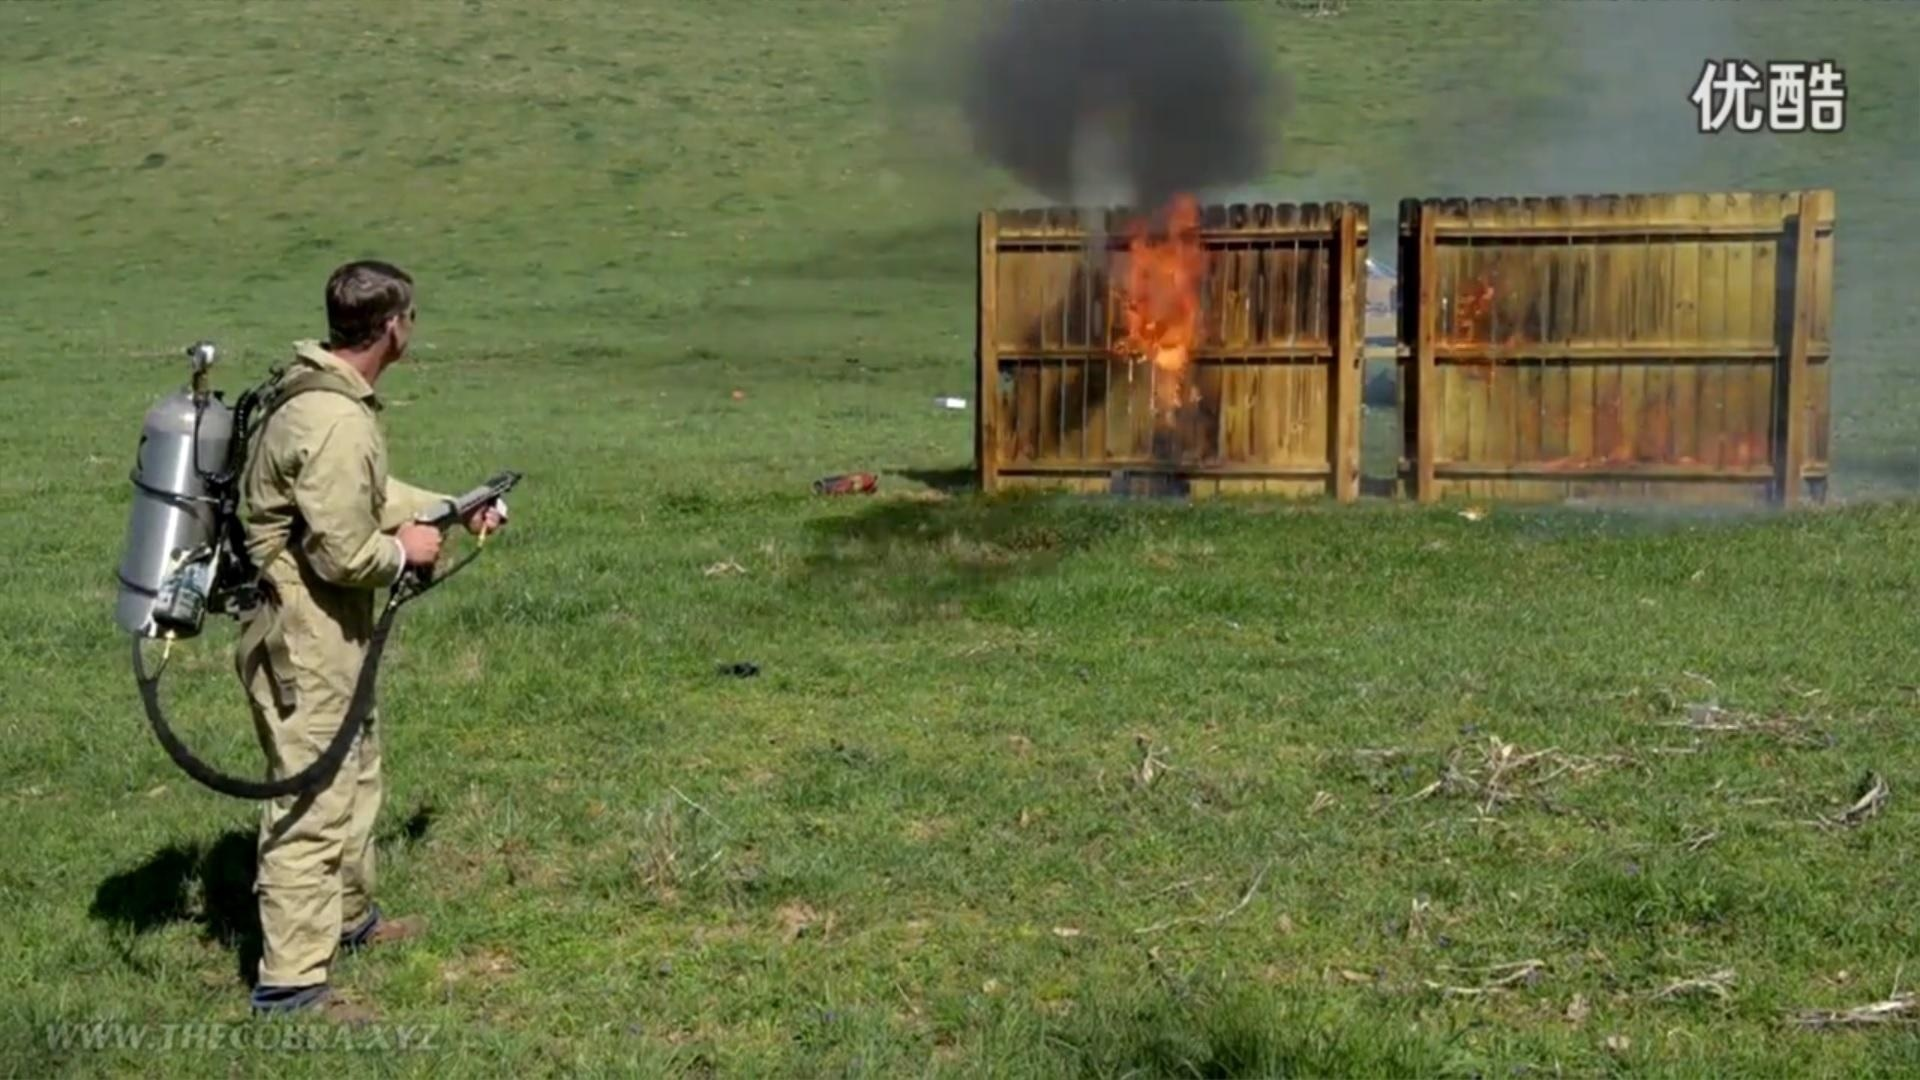fire: (1112, 202, 1209, 382)
